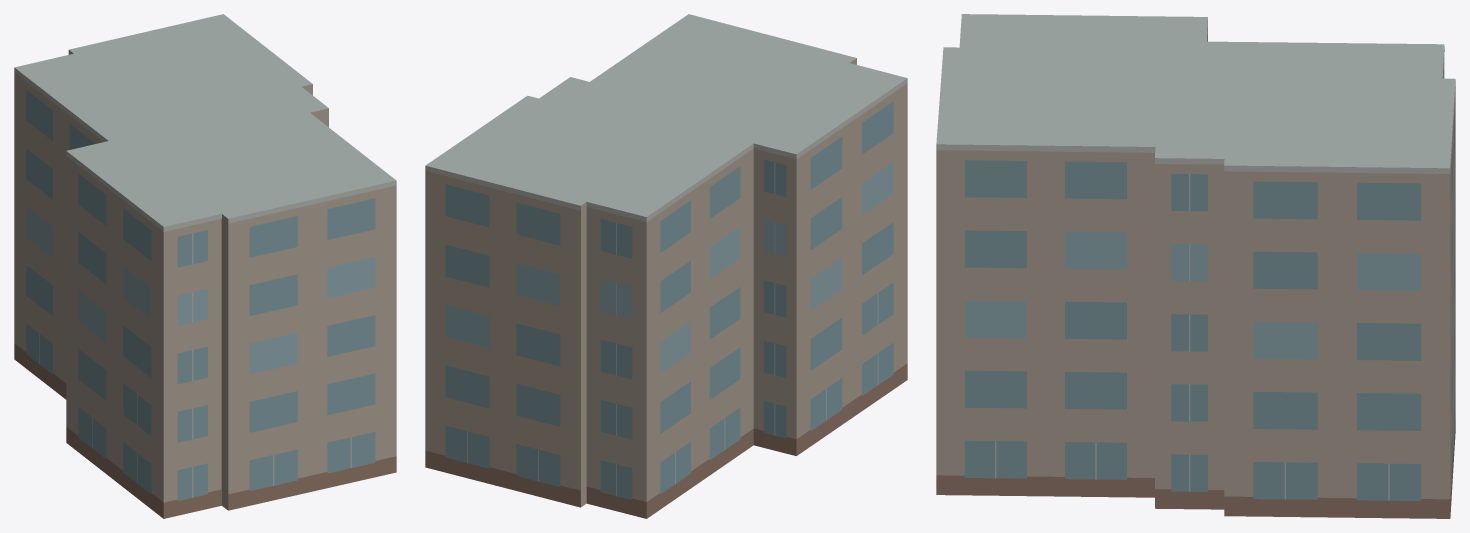
Rendered from survey-upis-33044463.glb.
The picture shows the model from 3 angles, left to right: view 1: azimuth 30°, elevation 25°; view 2: azimuth 150°, elevation 25°; view 3: azimuth 270°, elevation 25°; orthographic projection. The views are drawn at different scales.
Parts seen in each view (by area): view 1: survey-upis-33044463.tmp; view 2: survey-upis-33044463.tmp; view 3: survey-upis-33044463.tmp.
Boxes of the visible parts, x1,y1,x2,y2 form: survey-upis-33044463.tmp: (14, 14, 396, 518); survey-upis-33044463.tmp: (425, 14, 907, 518); survey-upis-33044463.tmp: (936, 14, 1455, 518).
Size of the model in its own units: 13.69 by 14.5 by 19.47.
